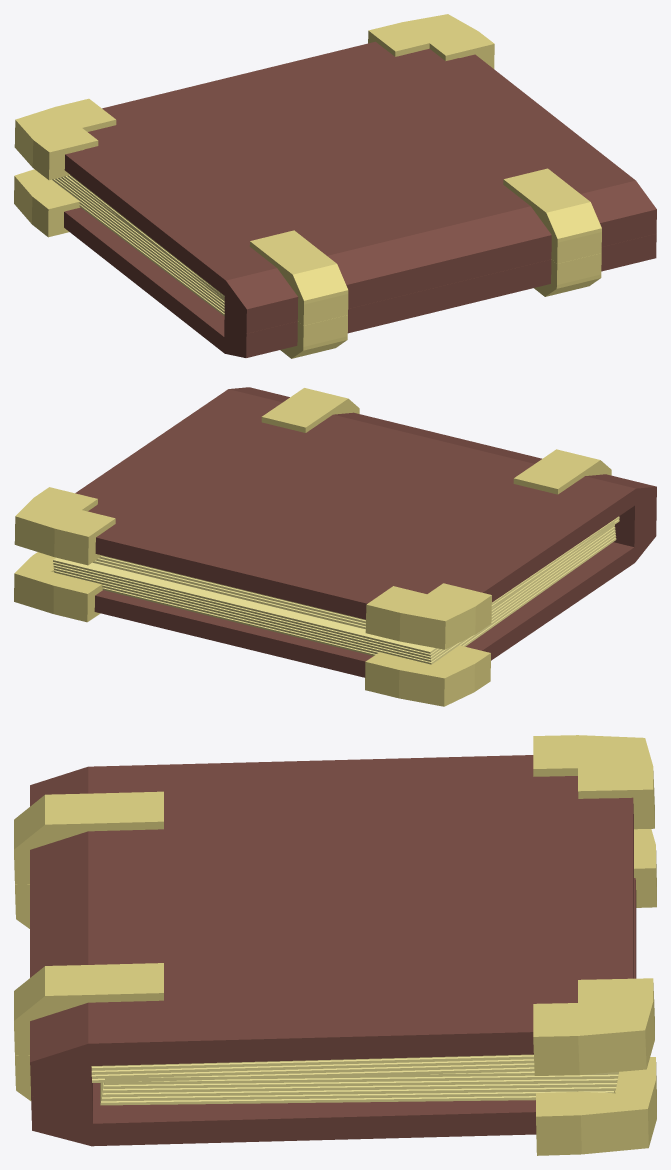
Rendered from Book.fbx.
The picture shows the model from 3 angles, top to bottom: view 1: azimuth 30°, elevation 25°; view 2: azimuth 150°, elevation 25°; view 3: azimuth 270°, elevation 25°; orthographic projection. The views are drawn at different scales.
Visible parts, largest first — view 1: Cube.002, Cube.004, Cube.001, Cube.003; view 2: Cube.002, Cube.004, Cube.001, Cube.003; view 3: Cube.002, Cube.004, Cube.001, Cube.003.
Boxes of the visible parts, bbox=[...] form: Cube.002: bbox=[14, 14, 656, 333]; Cube.004: bbox=[14, 169, 656, 358]; Cube.001: bbox=[52, 176, 224, 315]; Cube.003: bbox=[67, 175, 224, 299]; Cube.002: bbox=[14, 387, 656, 649]; Cube.004: bbox=[14, 511, 656, 706]; Cube.001: bbox=[53, 522, 616, 664]; Cube.003: bbox=[92, 516, 619, 629]; Cube.002: bbox=[14, 735, 654, 1096]; Cube.004: bbox=[15, 829, 656, 1155]; Cube.001: bbox=[100, 1071, 618, 1105]; Cube.003: bbox=[91, 1054, 534, 1082].
Bounding box in the file's own units: 978 × 203 × 883.
